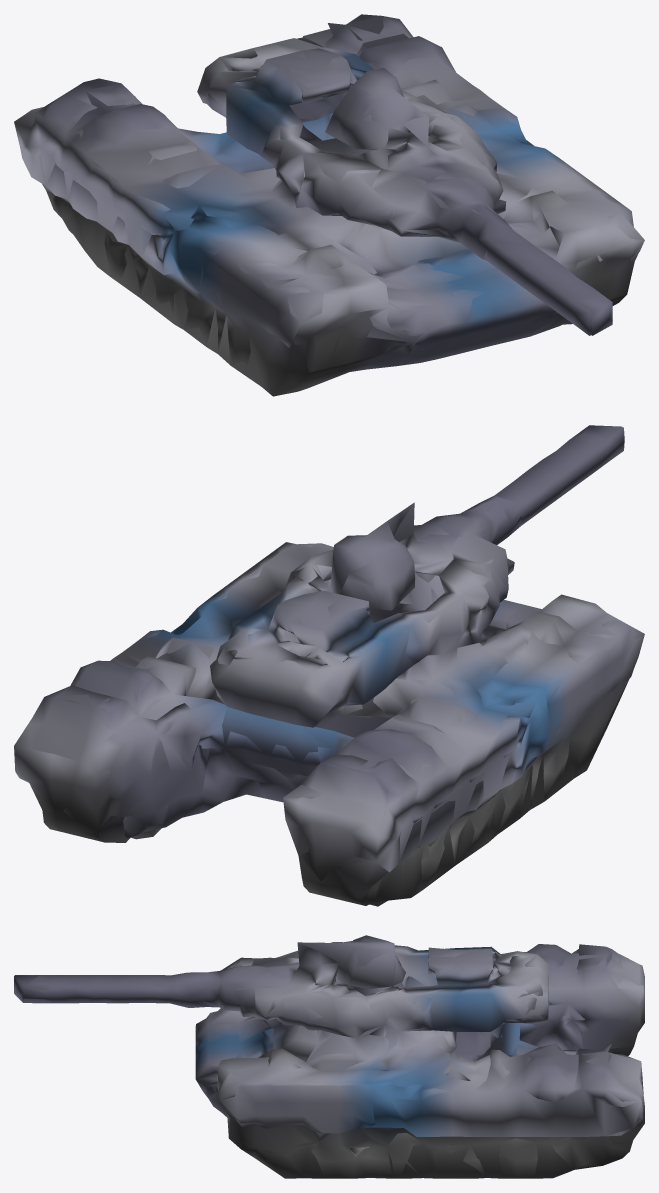
The model's file is grizzly_tank.glb.
3 renders of one model, top to bottom at view 1: azimuth 30°, elevation 25°; view 2: azimuth 150°, elevation 25°; view 3: azimuth 270°, elevation 25°, orthographic. The views are drawn at different scales.
Visible parts, largest first — view 1: Hull; view 2: Hull; view 3: Hull.
Boxes of the visible parts, x1,y1,x2,y2 form: Hull: (14, 14, 644, 396); Hull: (14, 425, 644, 906); Hull: (14, 935, 644, 1178).
Size of the model in its own units: 2.49 by 1.5 by 4.79.
